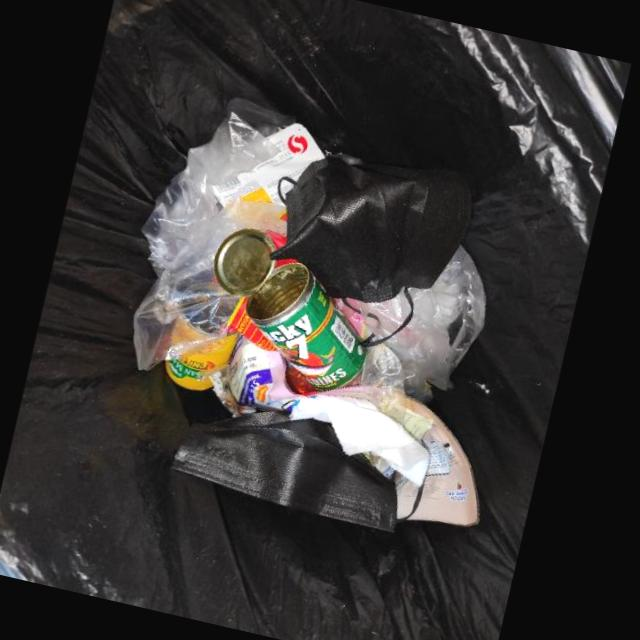bao_bi_thuc_pham: (213, 123, 324, 207)
giay: (289, 395, 429, 486)
khau_trang: (269, 153, 473, 348)
nhom: (171, 411, 400, 535), (213, 229, 367, 392), (164, 316, 239, 391)
tui_ni_long: (225, 296, 478, 527), (132, 113, 287, 372), (349, 245, 486, 392)
